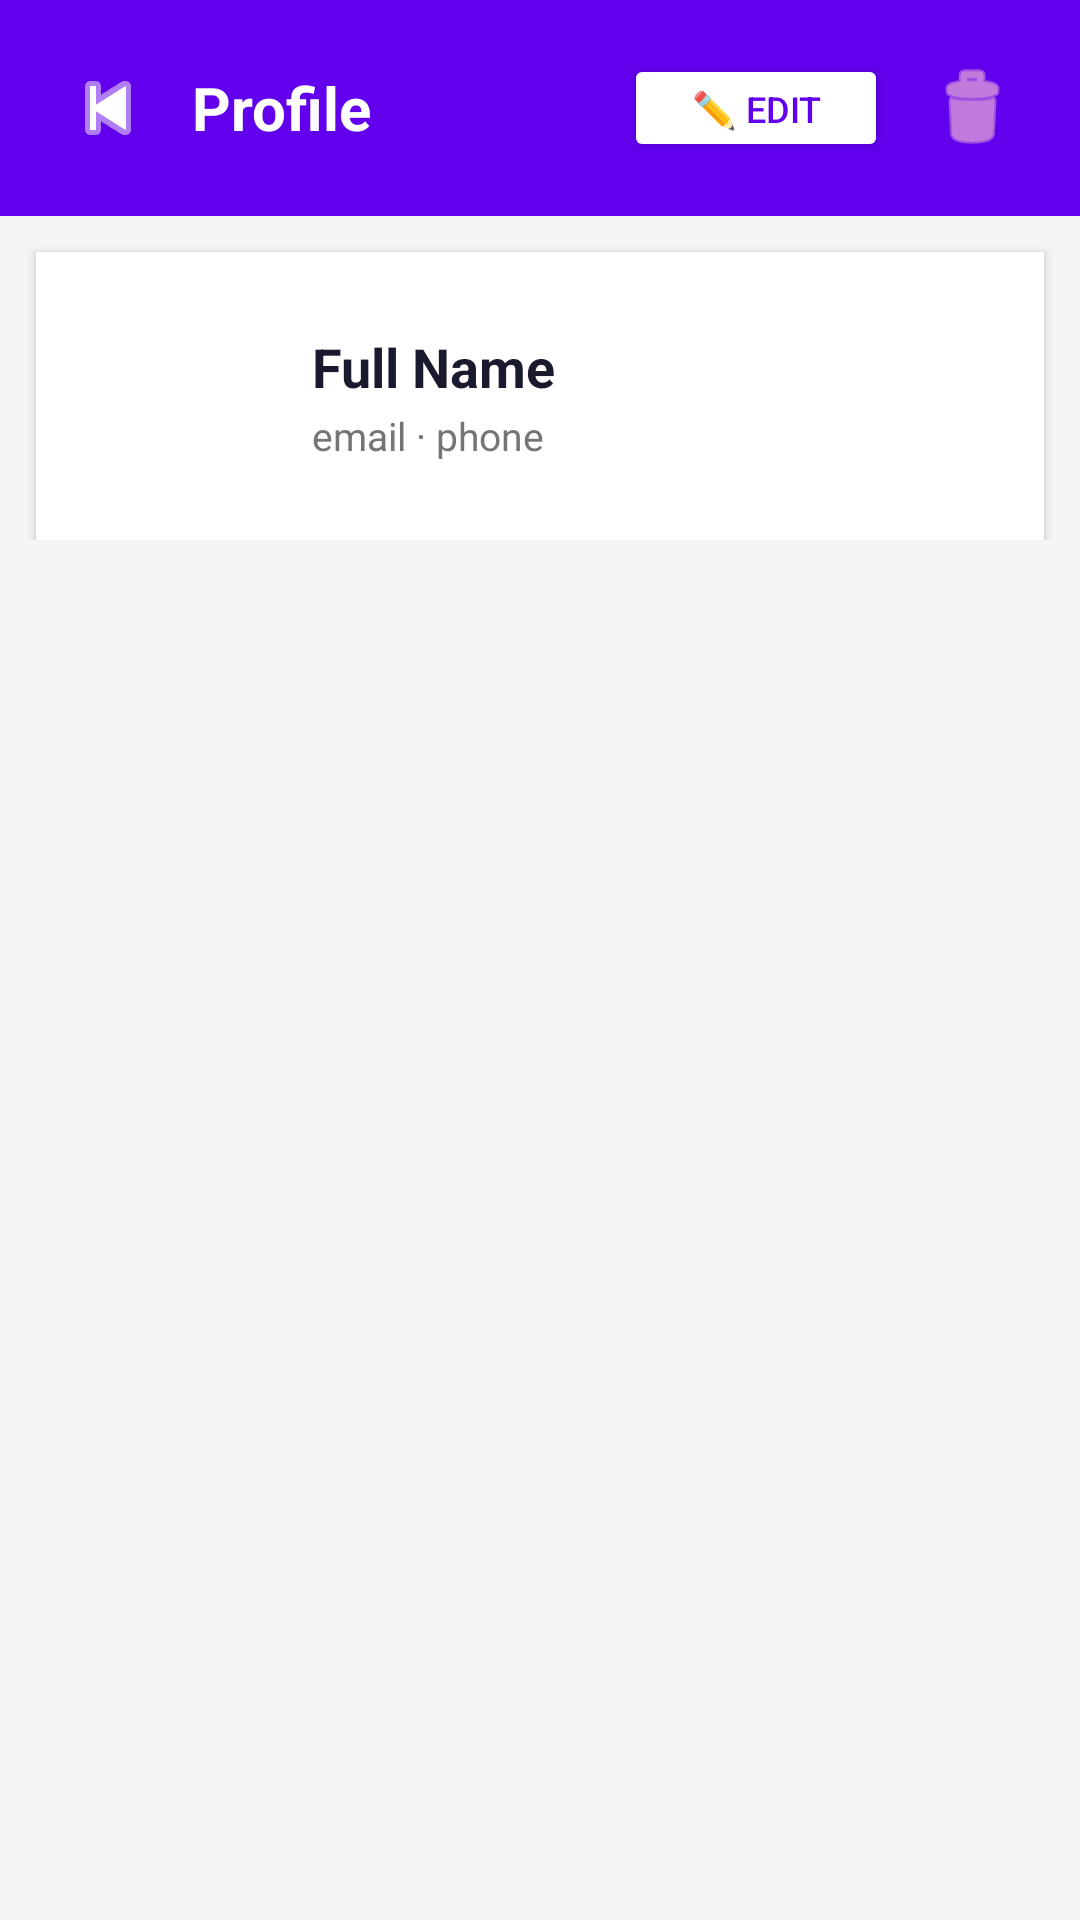

Screen size 1080 × 1920. Icon name, then its box in pixels as (x1, y1, x2, y2):
Back: (85, 81, 131, 135)
Delete: (945, 69, 1000, 144)
